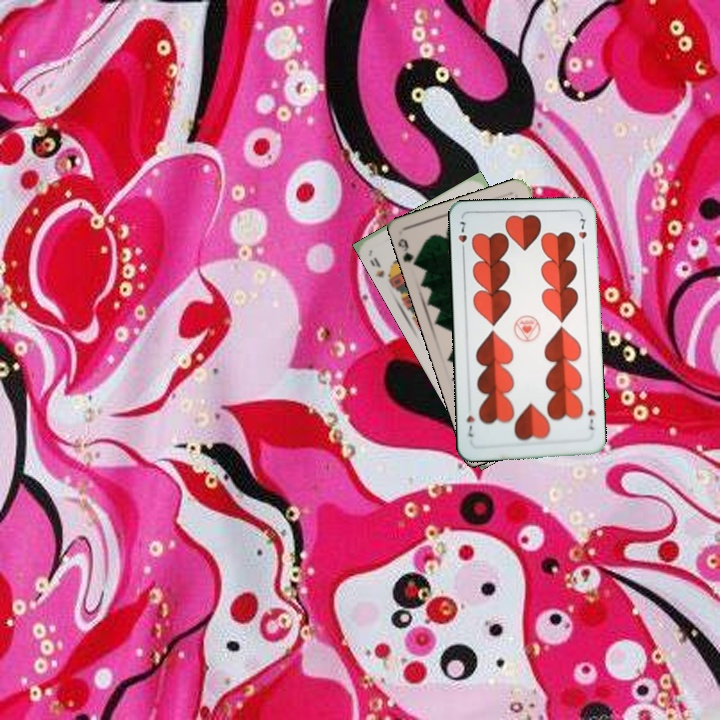G9: (395, 234, 421, 269)
H7: (454, 217, 469, 256), (584, 405, 597, 433)
S9: (365, 253, 396, 286)
